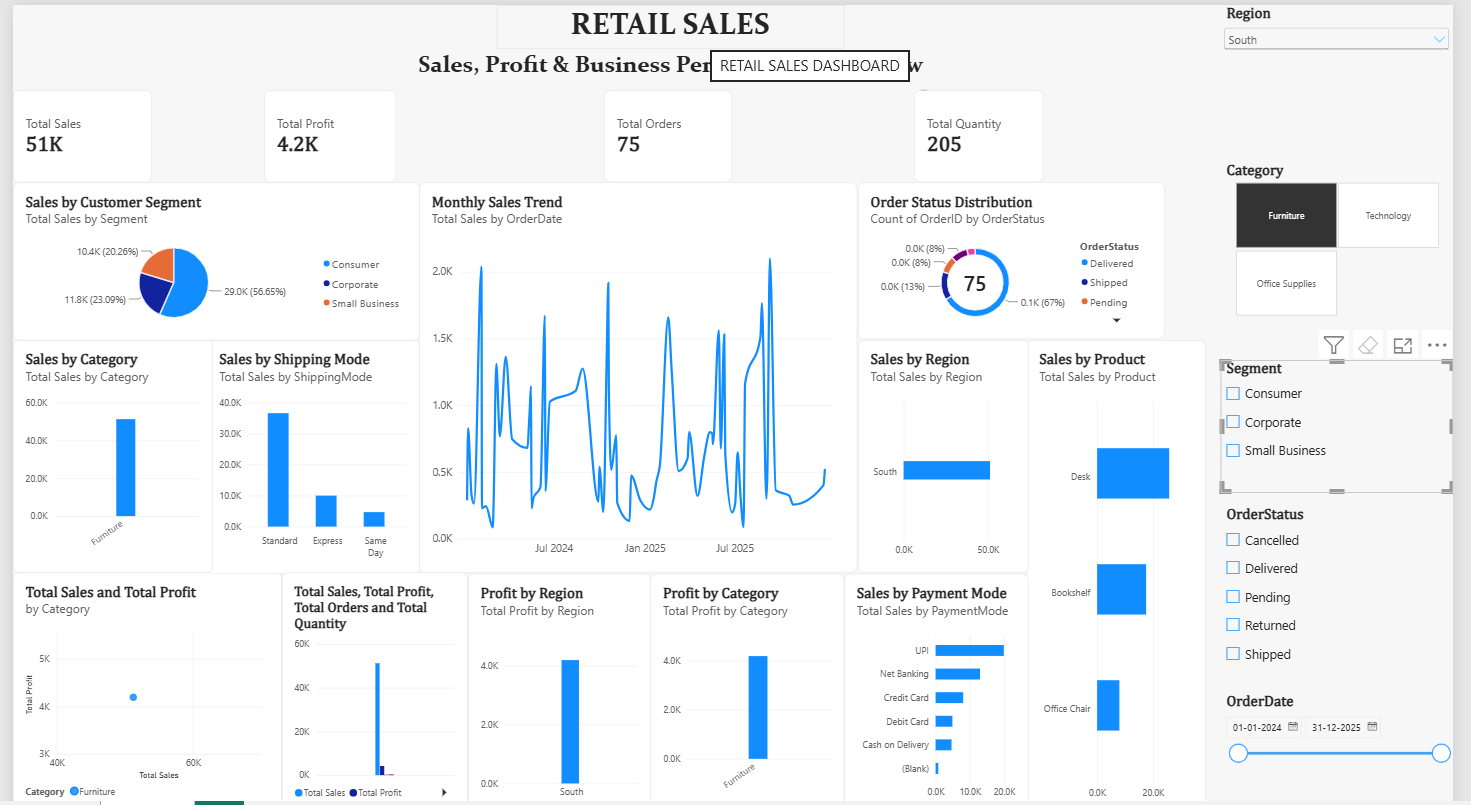

This screenshot's page, from the dashboard's own definition file:
{"tool":"powerbi","page":{"name":"Page 1","canvas":[1920,1080],"ordinal":0},"visuals":[{"type":"clusteredBarChart","title":"Sales by Product","fields":{"Category":["Sales_Data.Product"],"Y":["Sales_Data.Total Sales"]},"box":[1352,446,238,634],"z":0},{"type":"scatterChart","fields":{"Series":["Sales_Data.Category"],"X":["Sales_Data.Total Sales"],"Y":["Sales_Data.Total Profit"]},"box":[0,756,358,322],"z":1000},{"type":"clusteredColumnChart","title":"Profit by Region","fields":{"Category":["Sales_Data.Region"],"Y":["Sales_Data.Total Profit"]},"box":[606,758,243.6,321.8],"z":2000},{"type":"donutChart","title":"Order Status Distribution","fields":{"Category":["Sales_Data.OrderStatus"],"Y":["CountNonNull(Sales_Data.OrderID)"]},"box":[1126,236,409.1,209.1],"z":3000},{"type":"pieChart","title":"Sales by Customer Segment","fields":{"Category":["Sales_Data.Segment"],"Y":["Sales_Data.Total Sales"]},"box":[0,236,542,210],"z":4000},{"type":"clusteredBarChart","title":"Sales by Payment Mode","fields":{"Category":["Sales_Data.PaymentMode"],"Y":["Sales_Data.Total Sales"]},"box":[1108,758,245.5,321.8],"z":5000},{"type":"clusteredColumnChart","title":"Sales by Shipping Mode","fields":{"Category":["Sales_Data.ShippingMode"],"Y":["Sales_Data.Total Sales"]},"box":[258,446,284,312],"z":6000},{"type":"clusteredColumnChart","fields":{"Y":["Sales_Data.Total Sales","Sales_Data.Total Profit","Sales_Data.Total Orders","Sales_Data.Total Quantity"]},"box":[358,756,248,324],"z":7000},{"type":"cardVisual","title":"Total Sales","fields":{"Data":["Sales_Data.Total Sales"]},"box":[0,112.7,185.5,123.6],"z":8000},{"type":"cardVisual","title":"Total Profit","fields":{"Data":["Sales_Data.Total Profit"]},"box":[334.5,112.7,176.4,123.6],"z":9000},{"type":"cardVisual","title":"Total Orders","fields":{"Data":["Sales_Data.Total Orders"]},"box":[789.1,112.7,170.9,123.6],"z":10000},{"type":"cardVisual","fields":{"Data":["Sales_Data.Total Quantity"]},"box":[1201.8,112.7,172.7,123.6],"z":11000},{"type":"lineChart","title":"Monthly Sales Trend","fields":{"Category":["Sales_Data.OrderDate.Variation.Date Hierarchy.Month"],"Y":["Sales_Data.Total Sales"]},"box":[542,236,584,520],"z":12000},{"type":"clusteredColumnChart","title":"Sales by Category","fields":{"Category":["Sales_Data.Category"],"Y":["Sales_Data.Total Sales"]},"box":[0,446,266,310],"z":13000},{"type":"clusteredBarChart","title":"Sales by Region","fields":{"Category":["Sales_Data.Region"],"Y":["Sales_Data.Total Sales"]},"box":[1126,446,228,310],"z":14000},{"type":"clusteredColumnChart","title":"Profit by Category","fields":{"Category":["Sales_Data.Category"],"Y":["Sales_Data.Total Profit"]},"box":[850,758,258,322],"z":15000},{"type":"slicer","fields":{"Values":["Sales_Data.Category"]},"box":[1610,210,310,206],"z":16000},{"type":"slicer","fields":{"Values":["Sales_Data.Region"]},"box":[1610,0,310,194],"z":17000},{"type":"slicer","fields":{"Values":["Sales_Data.Segment"]},"box":[1610,474,310,176],"z":18000},{"type":"slicer","title":"OrderStatus","fields":{"Values":["Sales_Data.OrderStatus"]},"box":[1610,668,310,220],"z":19000},{"type":"slicer","fields":{"Values":["Sales_Data.OrderDate.Variation.Date Hierarchy.Year"]},"box":[1610,918,310,160],"z":20000},{"type":"textbox","title":"RETAIL SALES DASHBOARD","box":[645.5,0,462.2,57.6],"z":21000},{"type":"textbox","title":"Sales, Profit & Business Performance Overview","box":[534.3,60.1,683.7,54.1],"z":22000}]}

Visuals, with their boxes on the page's 1920x1080 design canvas (x1, y1, x2, y2). These are canvas units, not pixel positions in the 1471x805 screenshot, which may show the page scaled, cropped or inside an application window:
"Sales by Product" clusteredBarChart: bbox(1352, 446, 1590, 1080)
scatterChart - Sales_Data.Category x Sales_Data.Total Sales: bbox(0, 756, 358, 1078)
"Profit by Region" clusteredColumnChart: bbox(606, 758, 850, 1080)
"Order Status Distribution" donutChart: bbox(1126, 236, 1535, 445)
"Sales by Customer Segment" pieChart: bbox(0, 236, 542, 446)
"Sales by Payment Mode" clusteredBarChart: bbox(1108, 758, 1354, 1080)
"Sales by Shipping Mode" clusteredColumnChart: bbox(258, 446, 542, 758)
clusteredColumnChart - Sales_Data.Total Sales x Sales_Data.Total Profit: bbox(358, 756, 606, 1080)
"Total Sales" cardVisual: bbox(0, 113, 186, 236)
"Total Profit" cardVisual: bbox(334, 113, 511, 236)
"Total Orders" cardVisual: bbox(789, 113, 960, 236)
cardVisual - Sales_Data.Total Quantity: bbox(1202, 113, 1374, 236)
"Monthly Sales Trend" lineChart: bbox(542, 236, 1126, 756)
"Sales by Category" clusteredColumnChart: bbox(0, 446, 266, 756)
"Sales by Region" clusteredBarChart: bbox(1126, 446, 1354, 756)
"Profit by Category" clusteredColumnChart: bbox(850, 758, 1108, 1080)
slicer - Sales_Data.Category: bbox(1610, 210, 1920, 416)
slicer - Sales_Data.Region: bbox(1610, 0, 1920, 194)
slicer - Sales_Data.Segment: bbox(1610, 474, 1920, 650)
"OrderStatus" slicer: bbox(1610, 668, 1920, 888)
slicer - Sales_Data.OrderDate.Variation.Date Hierarchy.Year: bbox(1610, 918, 1920, 1078)
"RETAIL SALES DASHBOARD" textbox: bbox(646, 0, 1108, 58)
"Sales, Profit & Business Performance Overview" textbox: bbox(534, 60, 1218, 114)
